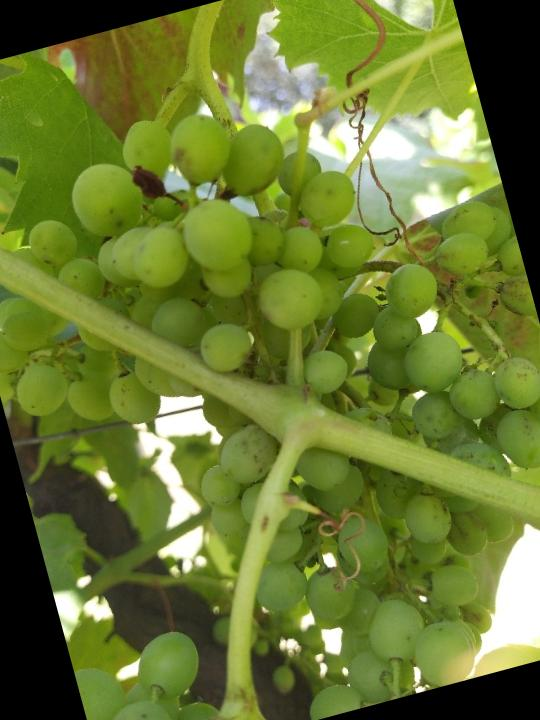grape: (0, 37, 540, 720)
